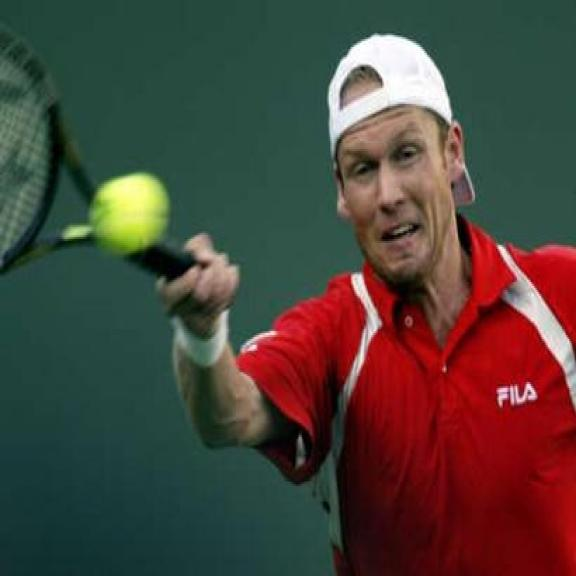face: (337, 111, 469, 281)
